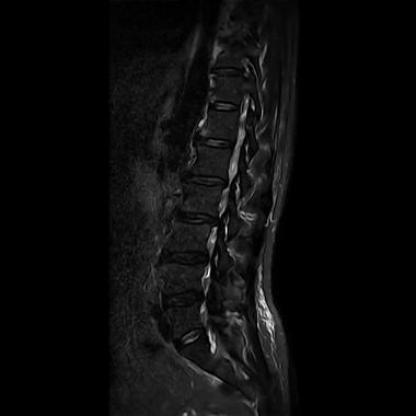Annular Tearrotation: (160, 288, 202, 311)
Disc Bulgerotation: (158, 245, 207, 268), (169, 206, 218, 229), (160, 288, 203, 311)
Disc Protrusionrotation: (182, 169, 228, 192)
